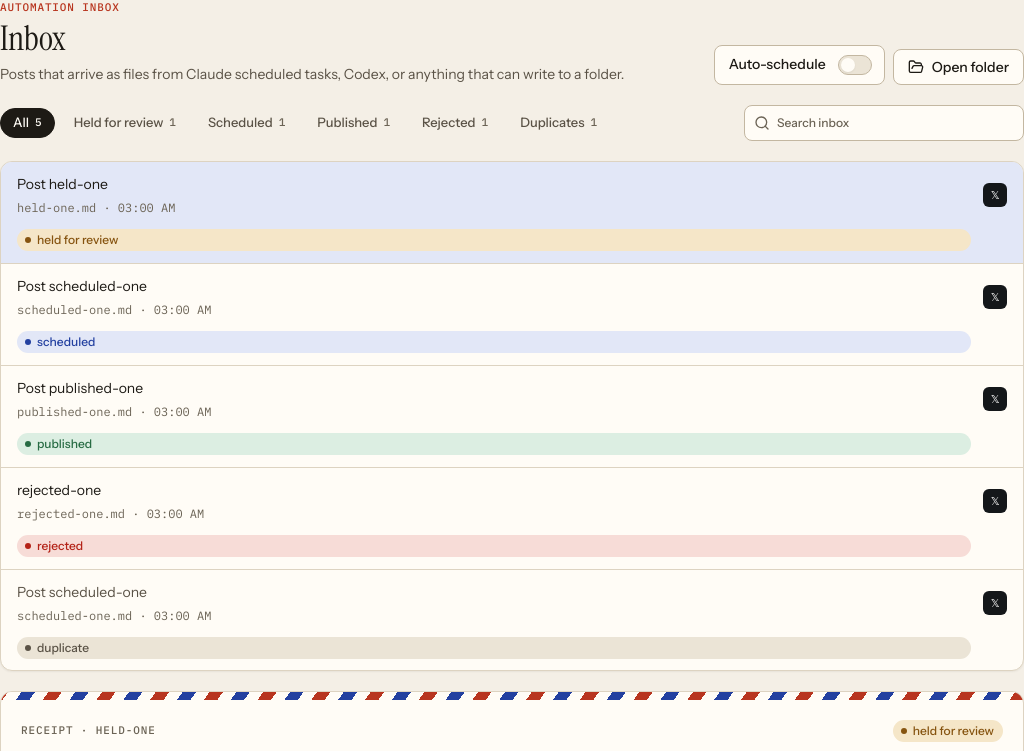
Test: Inbox screen › explains the trust boundary the first time Auto-schedule is turned on
The image size is (1024, 751).
Later steps or results of the test are not shown.
Click the switch named "Auto-schedule": (855, 65) [838,55,872,75]
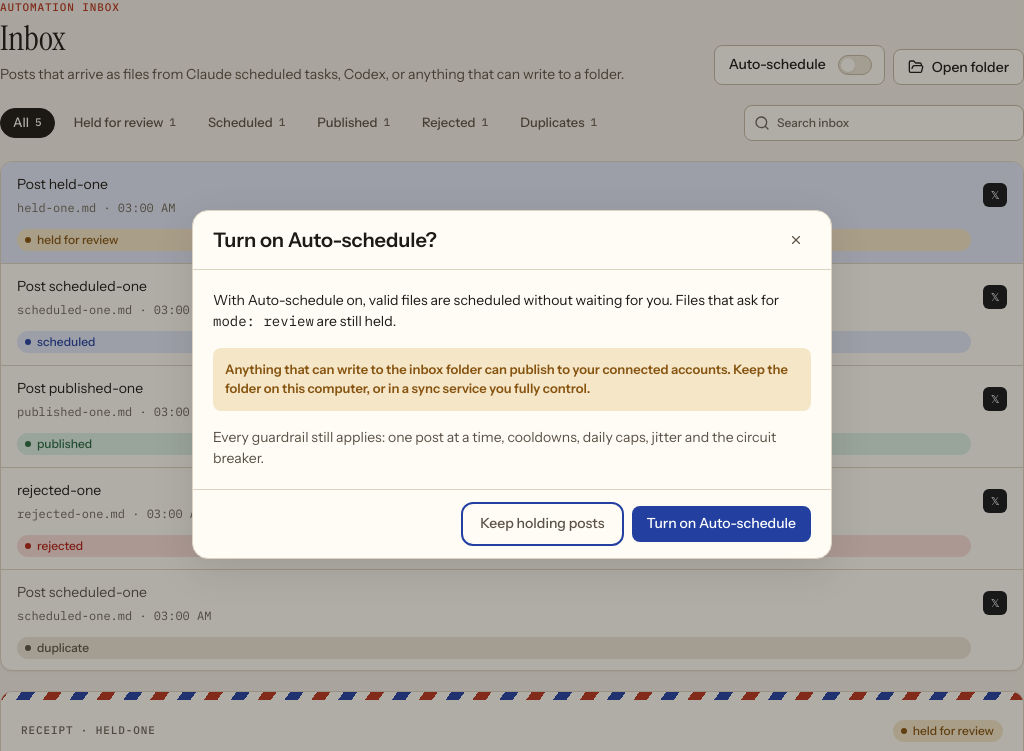
Expected: the dialog "Turn on Auto-schedule?" shows "Anything that can write to the inbox folder can publish", [225,360,788,396]
